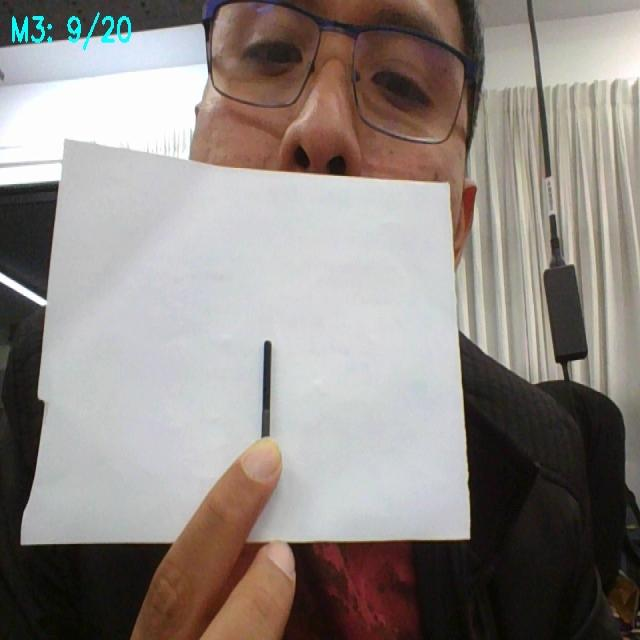vastago: (262, 341, 272, 437)
